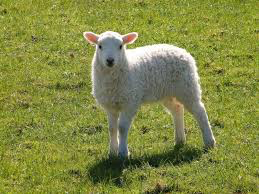koyun: (82, 31, 215, 162)
